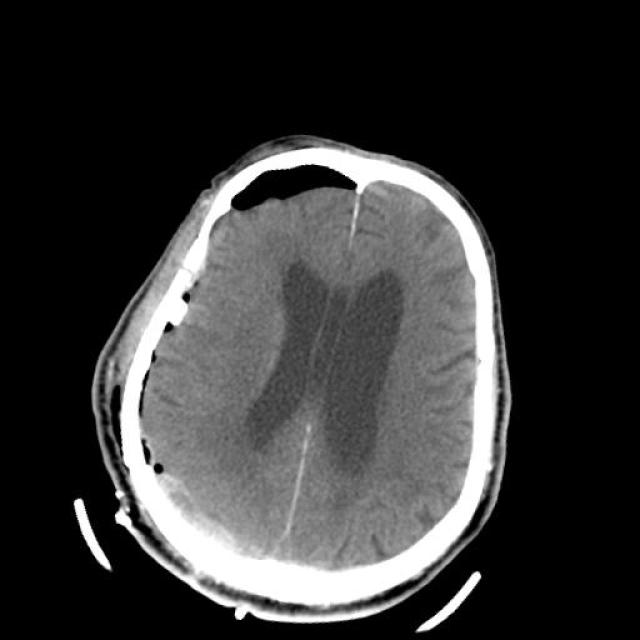Subdural: (110, 431, 264, 567)
